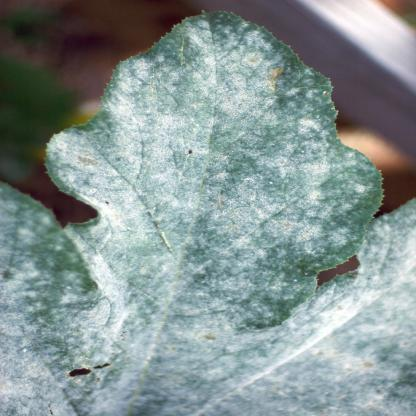Squash Powdery mildew leaf: (4, 9, 416, 410)
